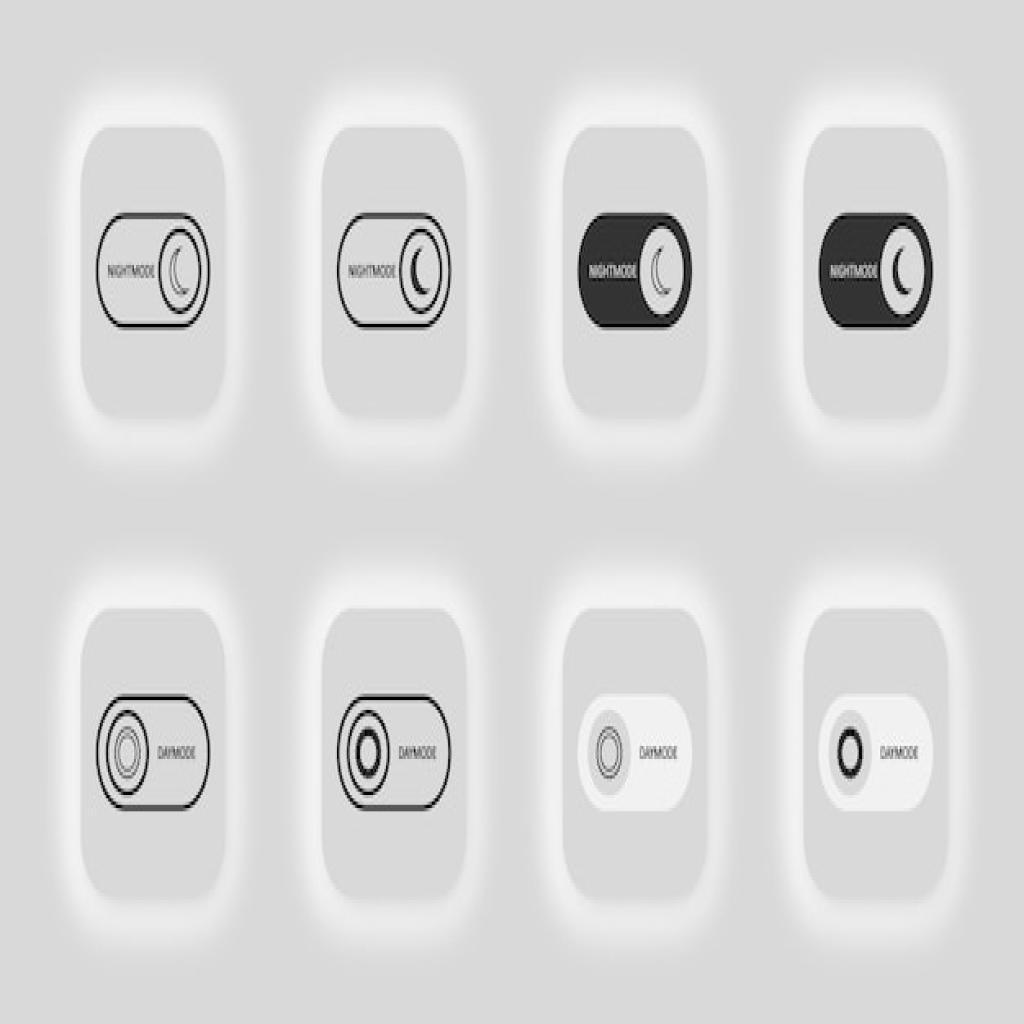switch: (94, 693, 215, 817), (576, 211, 697, 334), (335, 213, 457, 334), (818, 214, 939, 336), (332, 694, 455, 814), (820, 692, 939, 814), (577, 695, 698, 814), (96, 213, 211, 333)
